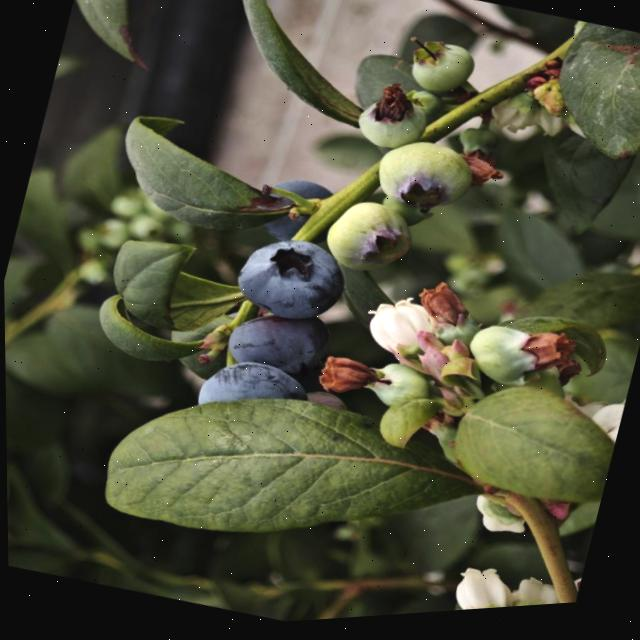RipeBlueBerry: (229, 227, 353, 336), (193, 350, 312, 433), (223, 307, 334, 387), (249, 171, 336, 254)
UnripeBlueBerry: (366, 133, 479, 228), (318, 194, 420, 288), (462, 321, 561, 404), (346, 355, 440, 427), (353, 89, 434, 164), (399, 34, 480, 108)
